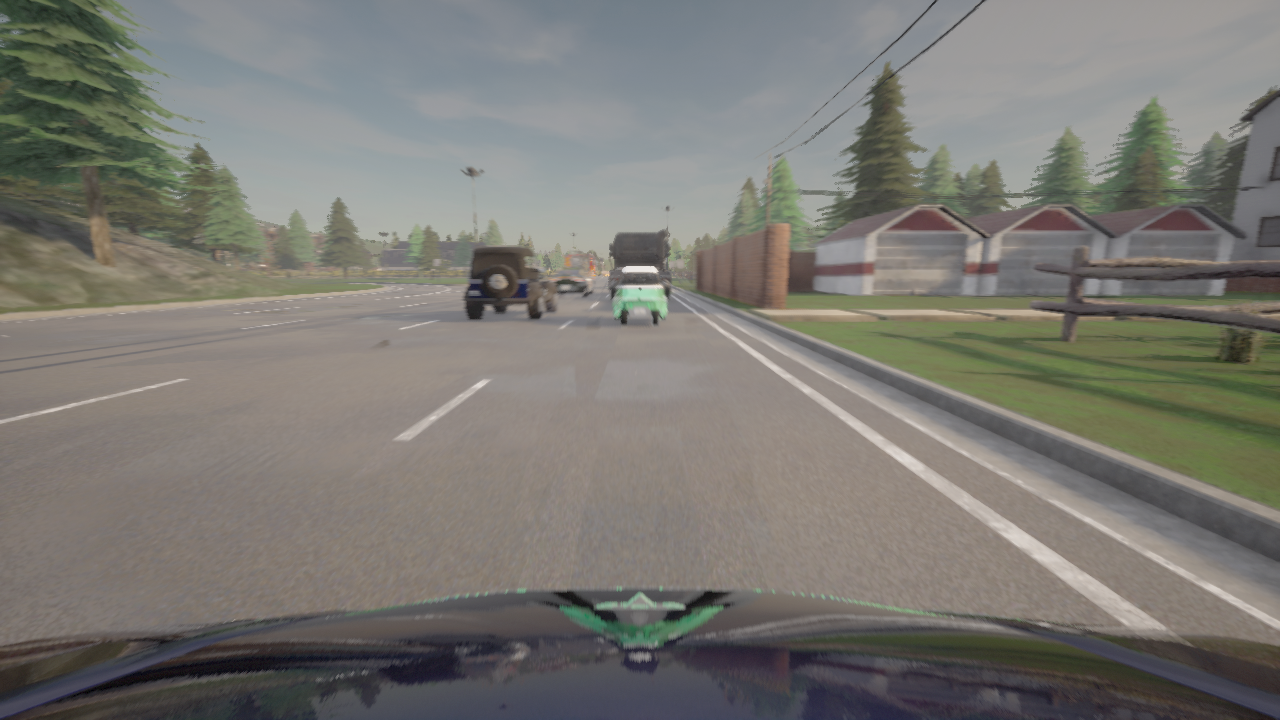cyclist: (0, 588, 1279, 719), (464, 246, 557, 319), (610, 230, 670, 299), (611, 267, 668, 325), (548, 267, 594, 297), (565, 250, 597, 282)
